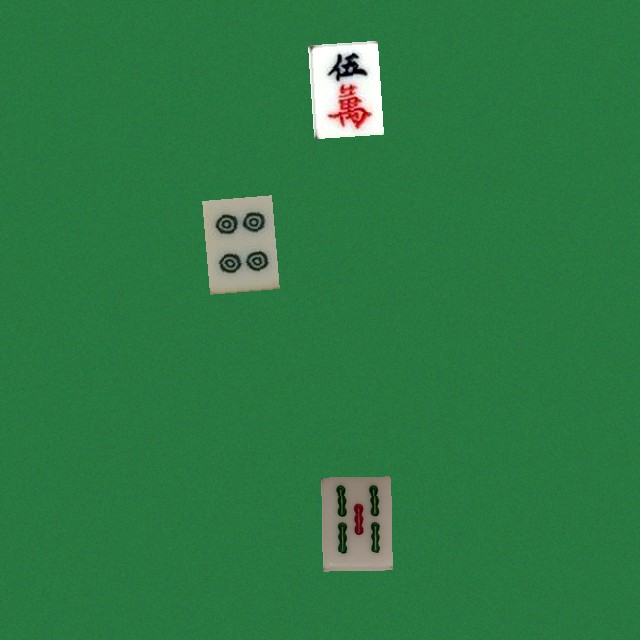tile: (202, 195, 272, 289), (307, 40, 377, 134), (321, 476, 391, 570)
